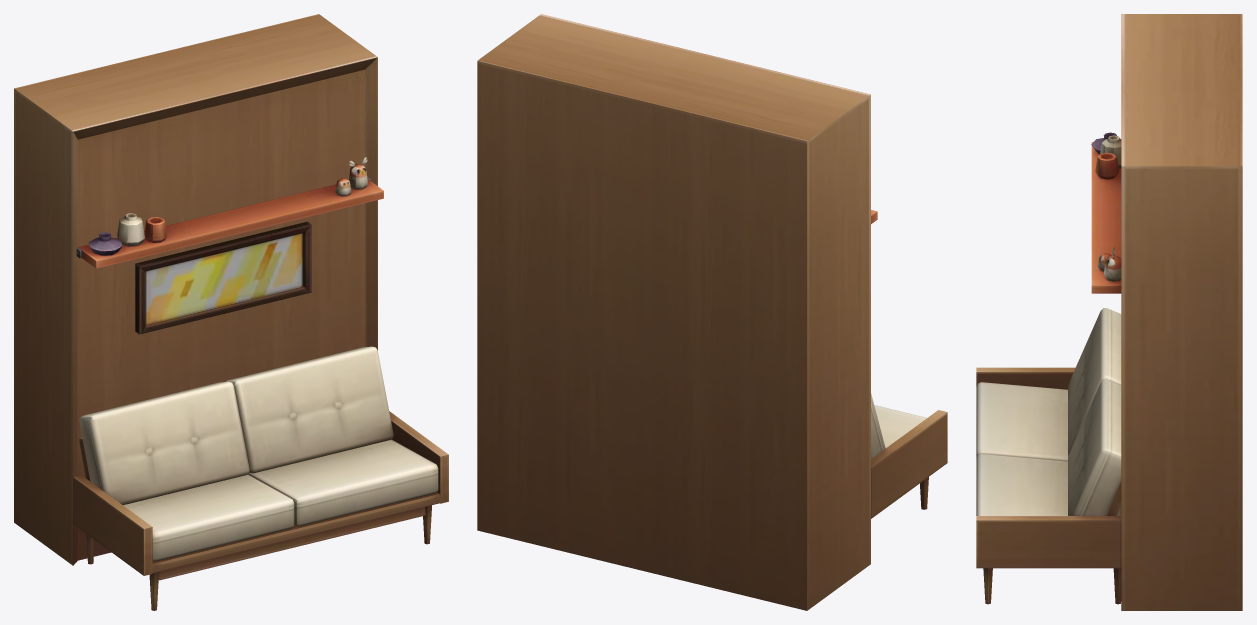
File: tiny_murphy_love_seat.glb
The picture shows the model from 3 angles, left to right: view 1: azimuth 30°, elevation 25°; view 2: azimuth 150°, elevation 25°; view 3: azimuth 270°, elevation 25°; orthographic projection. The views are drawn at different scales.
Visible parts, largest first — view 1: Object_10; view 2: Object_10; view 3: Object_10.
Part boxes in pixels (<box>): Object_10: <box>14,14,448,610</box>; Object_10: <box>477,14,947,610</box>; Object_10: <box>976,14,1242,610</box>.
Size of the model in its own units: 2.57 by 3.5 by 1.9.
1 material, 1 textured.
